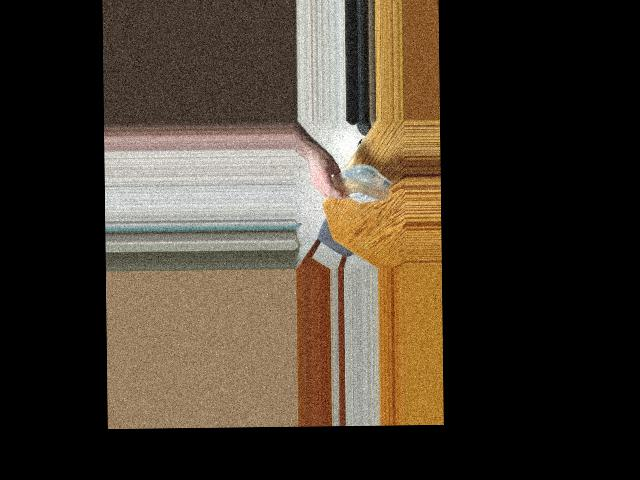cheese: (319, 167, 392, 204)
